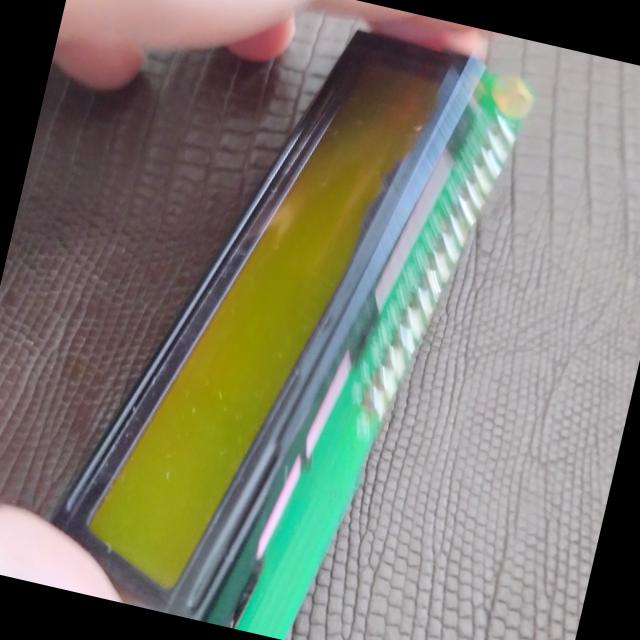lcd: (46, 0, 575, 640)
